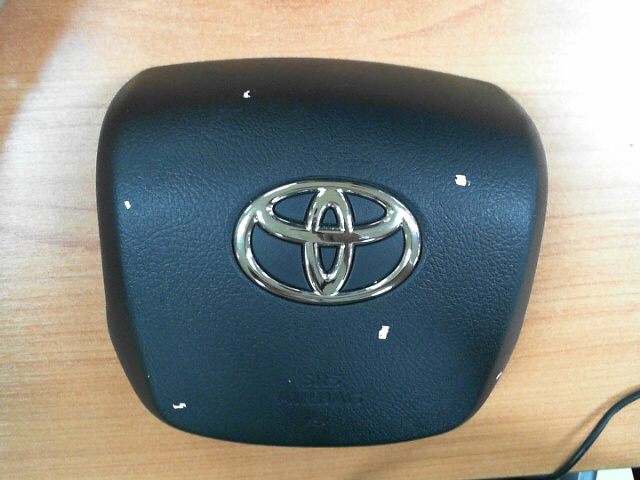Airbag: (453, 174, 471, 187), (377, 325, 390, 341), (172, 402, 187, 410), (242, 90, 252, 99), (124, 200, 131, 210), (496, 372, 501, 380)
